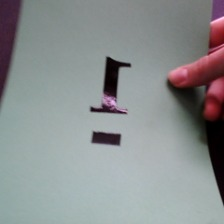green1: (83, 44, 135, 156)
